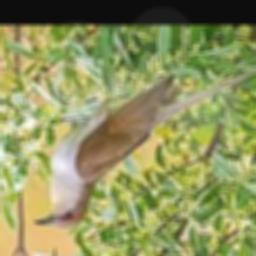Cuckoo: (31, 57, 256, 229)
